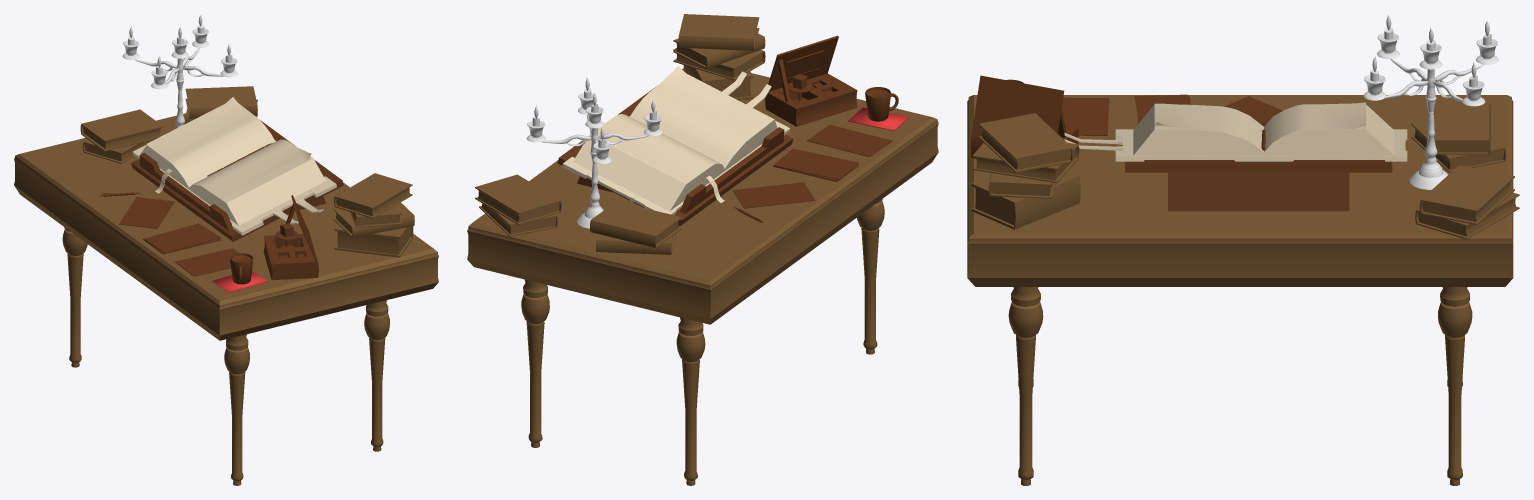
File: Book in Library SF.fbx
3 views of the same model, side by side, from view 1: azimuth 30°, elevation 25°; view 2: azimuth 150°, elevation 25°; view 3: azimuth 270°, elevation 25° (orthographic). The views are drawn at different scales.
Parts seen in each view (by area): view 1: Table_low, Cube106_low, table1_low.001, Cube116_low, Cube124_low, Cube125_low, book1_low, book5_low, book8_low, book3_low, Cube129_low, Cube130_low (+8 smaller); view 2: Table_low, Cube106_low, table1_low.001, Cube125_low, Cube116_low, Cube124_low, book1_low, book3_low, book5_low, Cube129_low, Cube130_low, Cube131_low (+12 smaller); view 3: Table_low, Cube124_low, table1_low.001, Cube116_low, Cube106_low, Cube125_low, book3_low, book5_low, book8_low, book1_low, Cylinder027_low, Cube131_low (+10 smaller).
Part boxes in pixels (bbox=[...]): Table_low: bbox=[14, 113, 438, 340]; Cube106_low: bbox=[147, 97, 311, 202]; table1_low.001: bbox=[62, 227, 389, 485]; Cube116_low: bbox=[141, 145, 325, 225]; Cube124_low: bbox=[131, 120, 343, 241]; Cube125_low: bbox=[263, 195, 318, 280]; book1_low: bbox=[80, 109, 163, 151]; book5_low: bbox=[334, 173, 412, 218]; book8_low: bbox=[334, 224, 413, 257]; book3_low: bbox=[185, 86, 257, 118]; Cube129_low: bbox=[143, 223, 220, 253]; Cube130_low: bbox=[119, 197, 174, 228]; Table_low: bbox=[467, 68, 938, 324]; Cube106_low: bbox=[598, 66, 774, 182]; table1_low.001: bbox=[521, 199, 884, 485]; Cube125_low: bbox=[765, 35, 857, 126]; Cube116_low: bbox=[573, 119, 777, 211]; Cube124_low: bbox=[557, 86, 793, 225]; book1_low: bbox=[590, 201, 681, 247]; book3_low: bbox=[475, 174, 561, 224]; book5_low: bbox=[678, 14, 759, 50]; Cube129_low: bbox=[773, 148, 858, 179]; Cube130_low: bbox=[732, 182, 815, 208]; Cube131_low: bbox=[807, 124, 892, 156]; Table_low: bbox=[967, 95, 1513, 286]; Cube124_low: bbox=[1125, 123, 1392, 211]; table1_low.001: bbox=[1008, 287, 1472, 485]; Cube116_low: bbox=[1133, 104, 1394, 156]; Cube106_low: bbox=[1154, 102, 1365, 151]; Cube125_low: bbox=[970, 75, 1078, 158]; book3_low: bbox=[1419, 165, 1514, 224]; book5_low: bbox=[979, 113, 1073, 172]; book8_low: bbox=[971, 171, 1080, 229]; book1_low: bbox=[1427, 102, 1490, 154]; Cylinder027_low: bbox=[1363, 33, 1498, 106]; Cube131_low: bbox=[1061, 97, 1109, 135].
Size of the model in its own units: 73.11 by 99.74 by 116.
